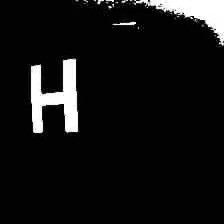LTR_H: (21, 54, 88, 139)
